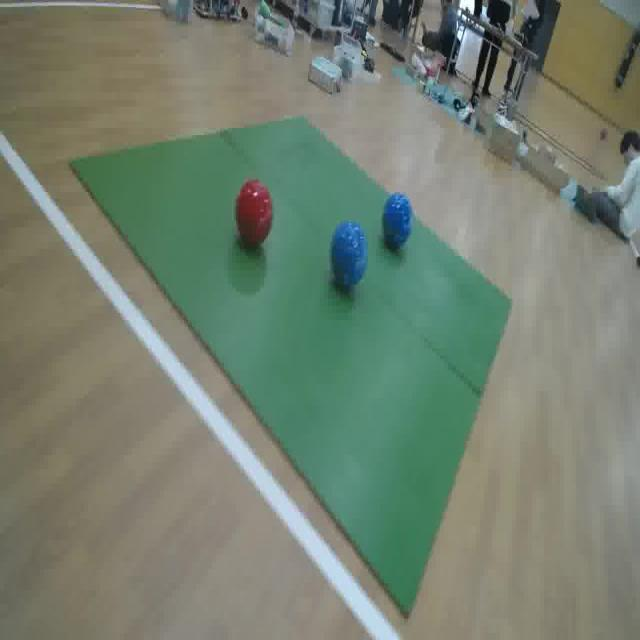blue_ball: (327, 216, 367, 292), (381, 191, 414, 254)
red_ball: (228, 174, 276, 247)
